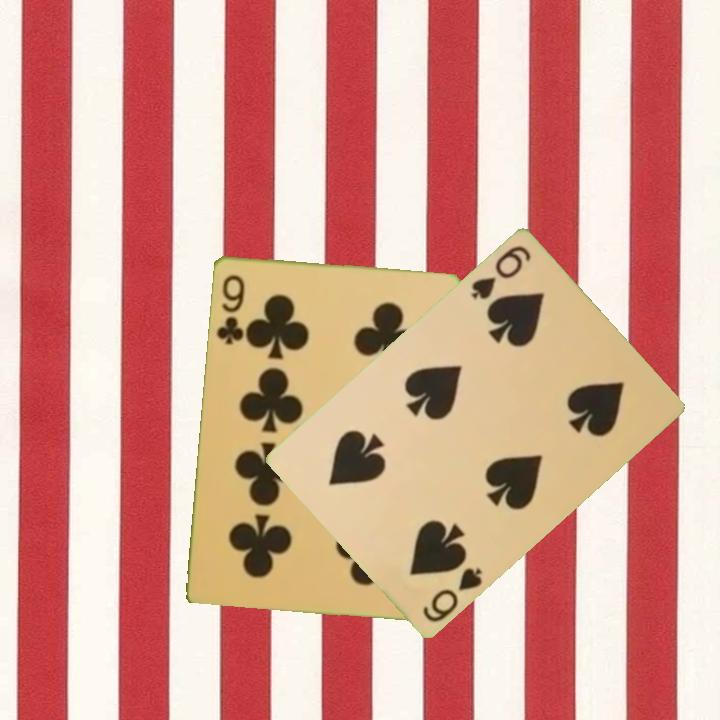6s: (419, 564, 485, 626), (467, 242, 534, 303)
9c: (212, 270, 247, 347)
